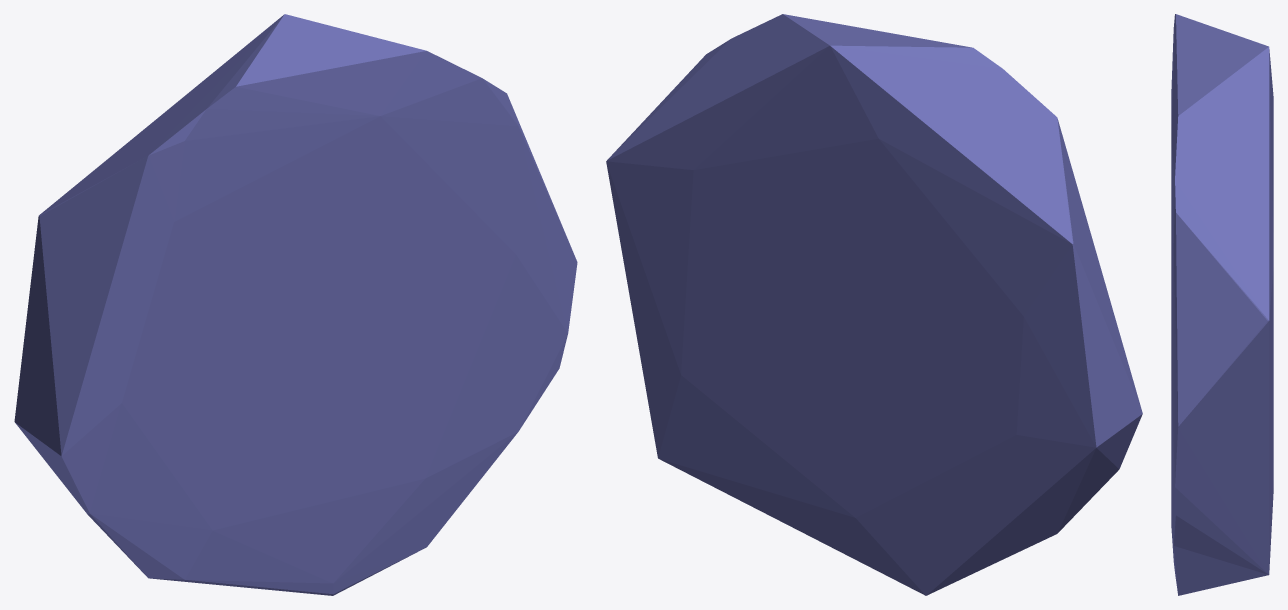
The model's file is consumable_oil_seal_large_f01.glb.
The picture shows the model from 3 angles, left to right: view 1: azimuth 30°, elevation 25°; view 2: azimuth 150°, elevation 25°; view 3: azimuth 270°, elevation 25°; orthographic projection. The views are drawn at different scales.
Parts seen in each view (by area): view 1: geometry_0; view 2: geometry_0; view 3: geometry_0.
Boxes of the visible parts, bbox=[...] form: geometry_0: bbox=[14, 14, 577, 595]; geometry_0: bbox=[606, 14, 1142, 595]; geometry_0: bbox=[1171, 14, 1273, 595].
Bounding box in the file's own units: 0.4725 × 0.4783 × 0.0842.
